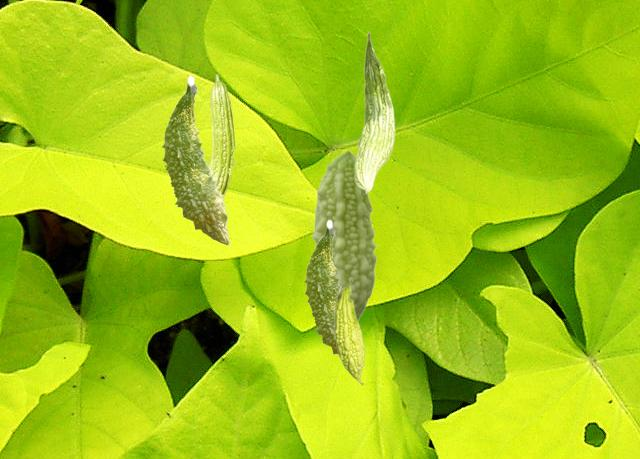ampalaya: (160, 75, 230, 246), (311, 149, 377, 321), (303, 219, 364, 368), (353, 31, 395, 194), (333, 277, 365, 386), (208, 74, 235, 197)
